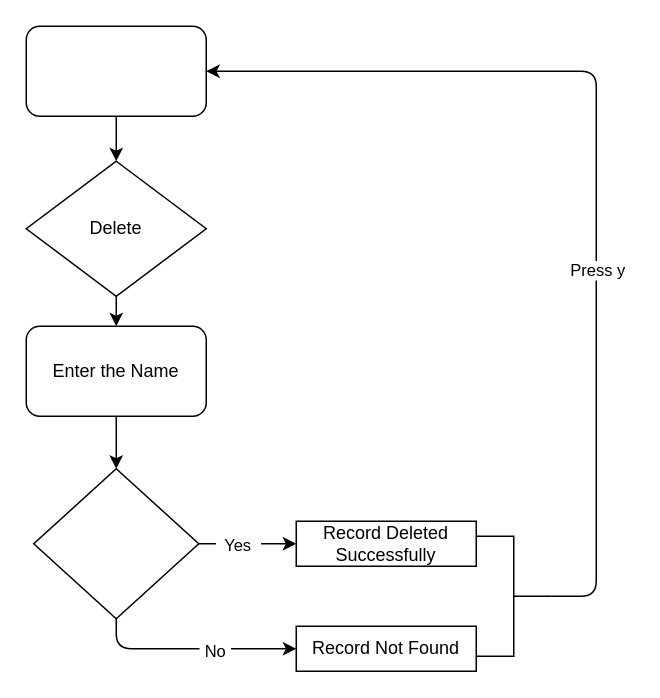
This 660x698 diagram has some shape labels left out. The shapes that lost their labels are listed below. From the top down, each one's centre as x and y in pixels, then its label:
At [115,70]: "Main Menu".
At [115,543]: "if(name== correct)".
